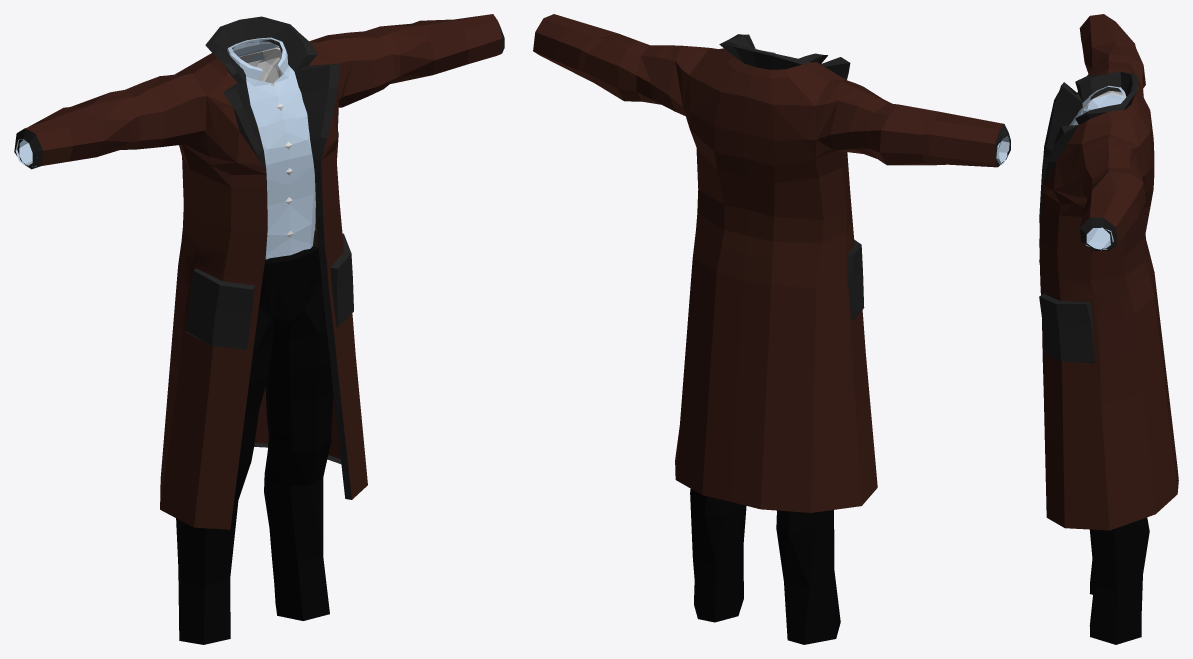
File: ClothesJack.fbx
The picture shows the model from 3 angles, left to right: view 1: azimuth 30°, elevation 25°; view 2: azimuth 150°, elevation 25°; view 3: azimuth 270°, elevation 25°; orthographic projection. The views are drawn at different scales.
Parts seen in each view (by area): view 1: Coat, Pants, Shirt; view 2: Coat, Pants; view 3: Coat, Pants, Shirt.
Part boxes in pixels (bbox=[...]): Coat: bbox=[14, 14, 504, 529]; Pants: bbox=[176, 208, 333, 644]; Shirt: bbox=[15, 37, 315, 259]; Coat: bbox=[533, 14, 1010, 512]; Pants: bbox=[690, 489, 840, 644]; Coat: bbox=[1039, 14, 1178, 530]; Pants: bbox=[1080, 105, 1149, 644]; Shirt: bbox=[1069, 86, 1126, 250].
Bounding box in the file's own units: 143 × 170 × 40.59.
